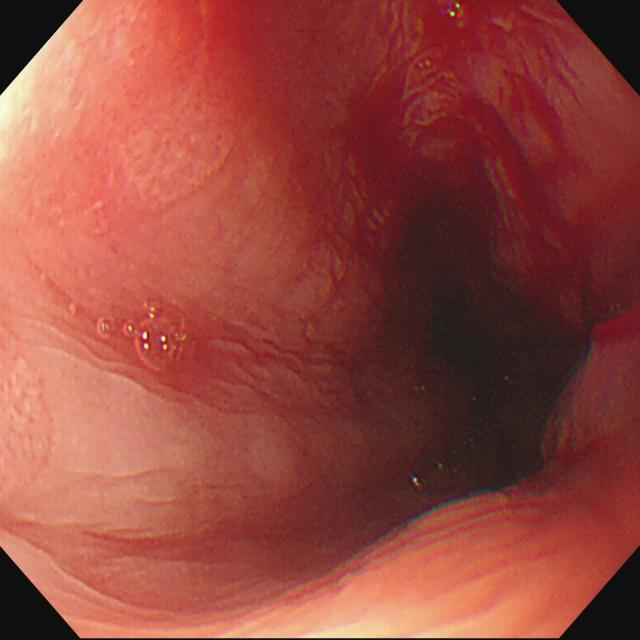C: (345, 2, 582, 226)
E: (436, 302, 546, 487)
T: (124, 298, 189, 373)
U: (441, 2, 469, 23)
